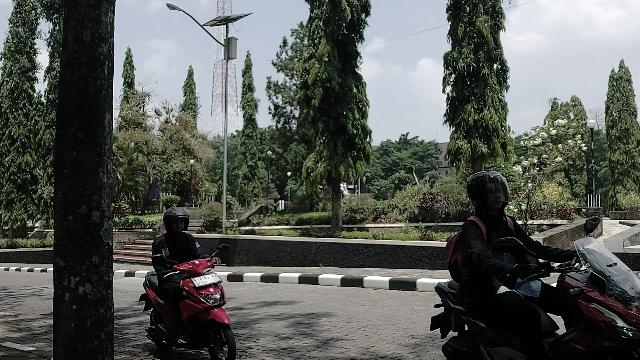helm: (466, 171, 514, 214), (163, 207, 191, 236)
motor: (430, 214, 640, 360), (139, 244, 240, 360)
